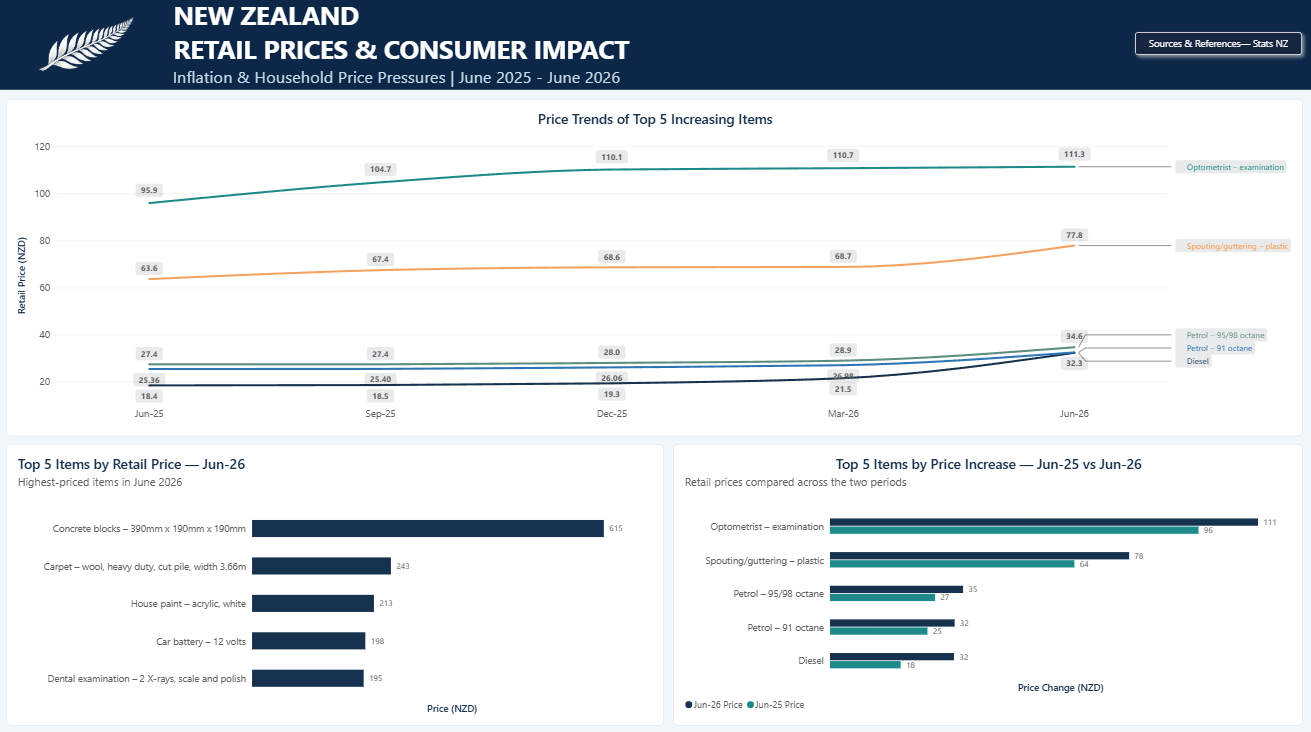

This screenshot's page, from the dashboard's own definition file:
{"tool":"powerbi","page":{"name":"Retail Prices & Consumer Impact","canvas":[1920,1080],"ordinal":2},"visuals":[{"type":"shape","box":[0,0,1920.1,133.9],"z":0},{"type":"textbox","box":[0,0,1920.6,134.3],"z":1000},{"type":"image","box":[0,0,248.7,134.3],"z":2000},{"type":"clusteredBarChart","title":"Top 5 Items by Price Increase — Jun-25 vs Jun-26","fields":{"Category":["nz_cost_of_living cpi_retailprices.Item"],"Y":["nz_cost_of_living cpi_retailprices.Jun-26 Price","nz_cost_of_living cpi_retailprices.Jun-25 Price"]},"box":[986.3,650.7,919.1,411.4],"z":2001},{"type":"barChart","title":"Top 5 Items by Retail Price — Jun-26","fields":{"Category":["nz_cost_of_living cpi_retailprices.Item"],"Y":["Avg(nz_cost_of_living cpi_retailprices.Retail_Price)"]},"box":[13.1,650.7,960,411.4],"z":2002},{"type":"lineChart","title":"Price Trends of Top 5 Increasing Items","fields":{"Category":["QuarterTable.Quarter"],"Series":["nz_cost_of_living cpi_retailprices.Item"],"Y":["Sum(nz_cost_of_living cpi_retailprices.Retail_Price)"]},"box":[13.1,147.4,1892.3,491.7],"z":2003},{"type":"actionButton","box":[1652.2,41.1,261.1,51.1],"z":2004}]}

Visuals, with their boxes in screenshot pixels (x1, y1, x2, y2), scaled from the page's 1920x1080 canvas onto the 1311x732 screenshot:
shape: {"x1": 0, "y1": 0, "x2": 1310, "y2": 91}
textbox: {"x1": 0, "y1": 0, "x2": 1310, "y2": 91}
image: {"x1": 0, "y1": 0, "x2": 170, "y2": 91}
"Top 5 Items by Price Increase — Jun-25 vs Jun-26" clusteredBarChart: {"x1": 673, "y1": 441, "x2": 1301, "y2": 720}
"Top 5 Items by Retail Price — Jun-26" barChart: {"x1": 9, "y1": 441, "x2": 664, "y2": 720}
"Price Trends of Top 5 Increasing Items" lineChart: {"x1": 9, "y1": 100, "x2": 1301, "y2": 433}
actionButton: {"x1": 1128, "y1": 28, "x2": 1306, "y2": 62}
